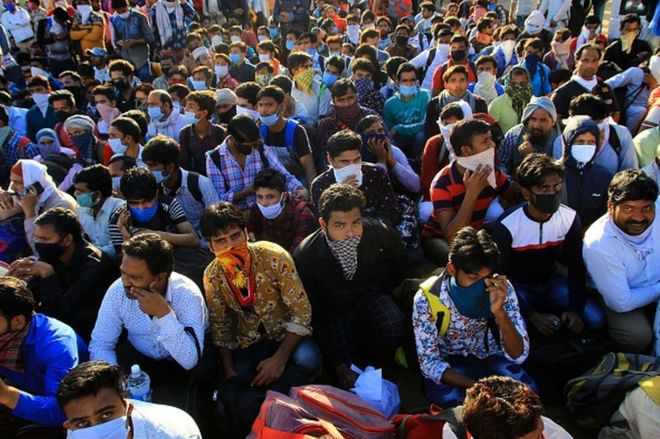mask_weared_incorrect: (321, 199, 365, 257), (459, 121, 499, 170), (251, 185, 289, 218), (256, 96, 289, 126), (183, 98, 208, 126)
with_mask: (205, 222, 252, 266), (33, 224, 73, 266), (525, 172, 564, 213), (124, 188, 161, 225), (331, 140, 362, 182), (564, 128, 598, 162), (65, 117, 93, 147), (396, 69, 421, 97)
without_mask: (612, 188, 655, 234), (526, 109, 553, 143), (444, 72, 471, 97)
